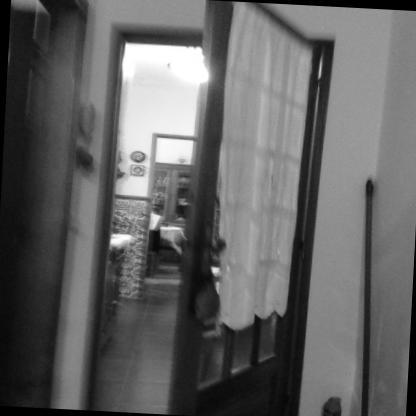semi: (73, 0, 346, 416)
